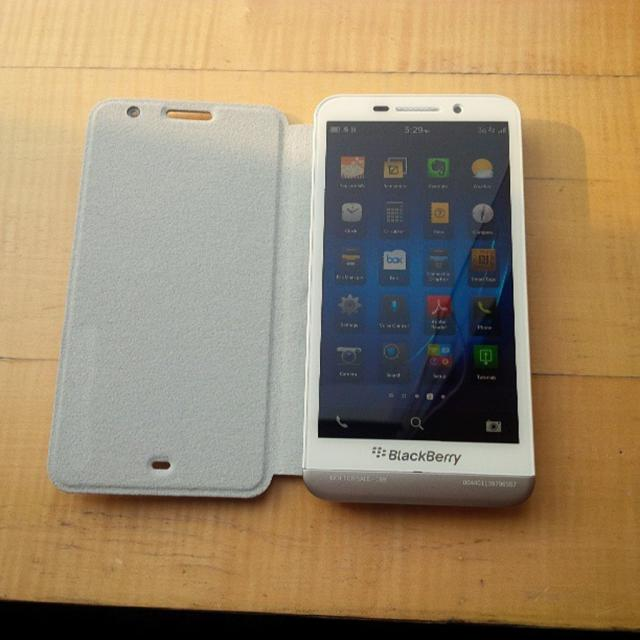Mobile-phone: (286, 80, 538, 514)
